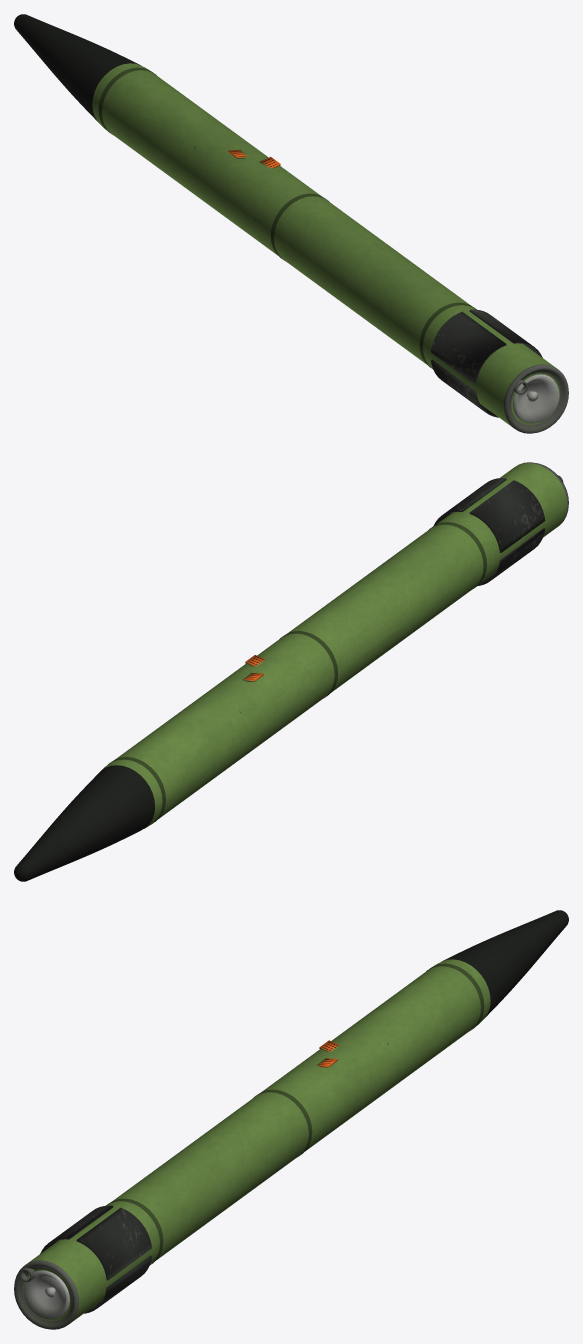
File: w_fly_ataka.glb
The picture shows the model from 3 angles, top to bottom: view 1: azimuth 30°, elevation 25°; view 2: azimuth 150°, elevation 25°; view 3: azimuth 330°, elevation 25°; orthographic projection.
Visible parts, largest first — view 1: body, wing2, nozzle, wing3, wing1; view 2: body, wing2, wing3, wing1; view 3: body, wing1, nozzle, wing4, wing2.
Part boxes in pixels (x1,y1,x2,y2): body: (14, 14, 568, 433); wing2: (431, 311, 506, 384); nozzle: (513, 374, 559, 423); wing3: (431, 359, 498, 417); wing1: (469, 309, 542, 357); body: (14, 462, 568, 881); wing2: (469, 480, 545, 552); wing3: (478, 528, 544, 585); wing1: (433, 478, 506, 525); body: (14, 910, 568, 1329); wing1: (76, 1207, 151, 1280); nozzle: (23, 1270, 69, 1319); wing4: (84, 1255, 151, 1313); wing2: (40, 1205, 113, 1253).
Bounding box in the file's own units: 0.1432 × 0.1432 × 1.83.
4 materials, 4 textured.
